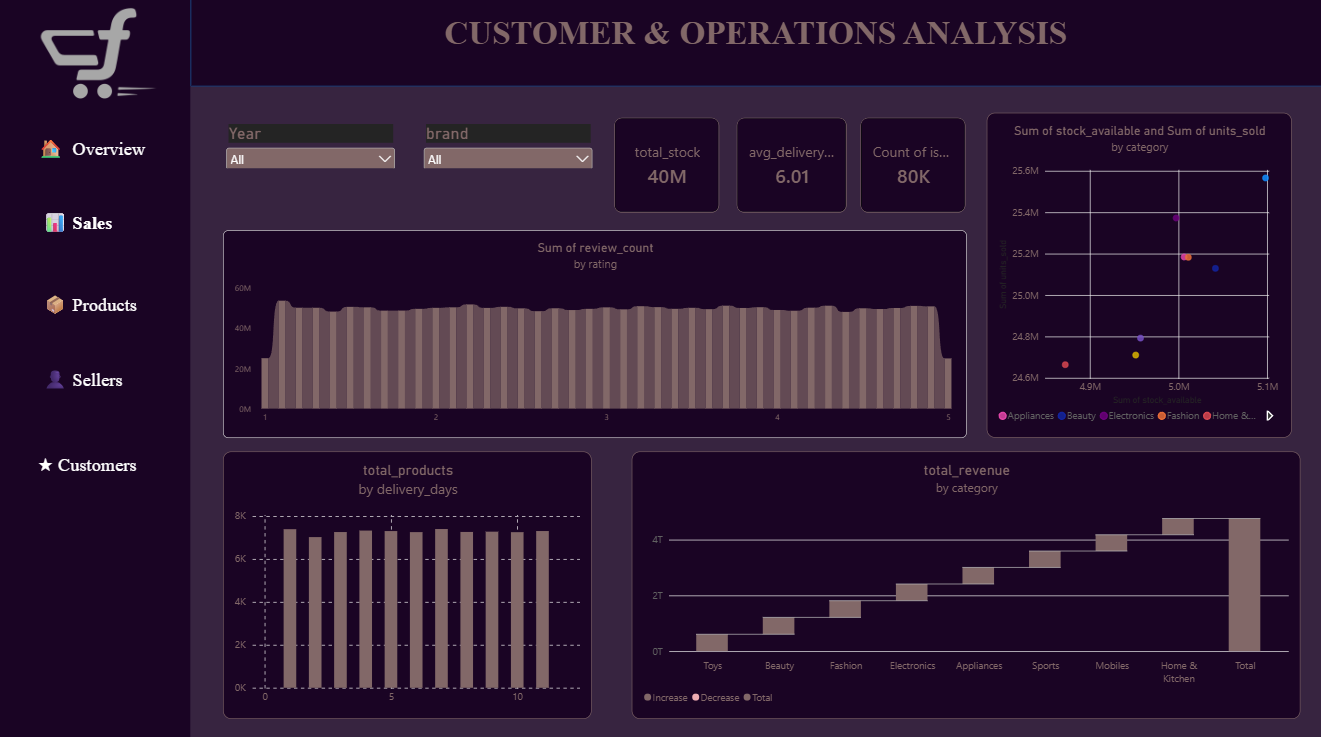

The page's visual inventory and layout, read from the dashboard file:
{"tool":"powerbi","page":{"name":"Customer & Operations Analysis","canvas":[1920,1080],"ordinal":4},"visuals":[{"type":"waterfallChart","fields":{"Category":["flipkard.category"],"Y":["calculation_table.total_revenue"]},"box":[917.5,662.3,968.2,387.3],"z":0},{"type":"clusteredColumnChart","fields":{"Category":["flipkard.delivery_days"],"Y":["calculation_tbl.total_products"]},"box":[325.7,662.3,533.8,387.3],"z":1000},{"type":"scatterChart","fields":{"X":["Sum(flipkard.stock_available)"],"Y":["Sum(flipkard.units_sold)"],"Series":["flipkard.category"]},"box":[1431.4,171.9,441.6,470.5],"z":2000},{"type":"shape","box":[278.7,0,1641.4,133.9],"z":3000},{"type":"shape","box":[0,0,278.7,1080.4],"z":3001},{"type":"textbox","box":[57.9,204.5,157.4,47.1],"z":3002},{"type":"textbox","box":[57.9,311.3,157.4,59.7],"z":3003},{"type":"textbox","box":[57.9,430.7,157.4,59.7],"z":3004},{"type":"textbox","box":[57.9,539.3,157.4,59.7],"z":3005},{"type":"textbox","box":[57.9,662.3,157.4,56.1],"z":3006},{"type":"textbox","box":[646,29,908.4,83.2],"z":3007},{"type":"cardVisual","fields":{"Data":["calculation_tbl.avg_deliverydays"]},"box":[1069.9,178.4,159.3,137.5],"z":3008},{"type":"cardVisual","fields":{"Data":["calculation_tbl.total_stock"]},"box":[892.5,178.4,152,137.5],"z":3009},{"type":"cardVisual","fields":{"Data":["CountNonNull(flipkard.is_returnable)"]},"box":[1249,178.4,152,137.5],"z":3010},{"type":"ribbonChart","fields":{"Category":["flipkard.rating"],"Y":["Sum(flipkard.review_count)"]},"box":[325.7,342,1076.7,300.4],"z":3011},{"type":"slicer","fields":{"Values":["DateTable.Date.Variation.Date Hierarchy.Year"]},"box":[325.7,188.2,254,64],"z":3012},{"type":"slicer","fields":{"Values":["flipkard.brand"]},"box":[611.7,188.2,254,64],"z":3013},{"type":"actionButton","box":[16.3,430.7,247.9,38],"z":3014},{"type":"actionButton","box":[27.1,311.3,247.9,38],"z":3015},{"type":"actionButton","box":[27.1,539.3,247.9,38],"z":3016},{"type":"actionButton","box":[30.8,204.5,231.6,47.1],"z":3017},{"type":"actionButton","box":[14.5,671.4,247.9,38],"z":3018},{"type":"image","box":[30.8,0,231.6,171.9],"z":3020}]}

Visuals, with their boxes on the page's 1920x1080 design canvas (x1, y1, x2, y2). These are canvas units, not pixel positions in the 1321x737 screenshot, which may show the page scaled, cropped or inside an application window:
waterfallChart - flipkard.category x calculation_table.total_revenue: l=918, t=662, r=1886, b=1050
clusteredColumnChart - flipkard.delivery_days x calculation_tbl.total_products: l=326, t=662, r=860, b=1050
scatterChart - Sum(flipkard.stock_available) x Sum(flipkard.units_sold): l=1431, t=172, r=1873, b=642
shape: l=279, t=0, r=1920, b=134
shape: l=0, t=0, r=279, b=1080
textbox: l=58, t=204, r=215, b=252
textbox: l=58, t=311, r=215, b=371
textbox: l=58, t=431, r=215, b=490
textbox: l=58, t=539, r=215, b=599
textbox: l=58, t=662, r=215, b=718
textbox: l=646, t=29, r=1554, b=112
cardVisual - calculation_tbl.avg_deliverydays: l=1070, t=178, r=1229, b=316
cardVisual - calculation_tbl.total_stock: l=892, t=178, r=1044, b=316
cardVisual - CountNonNull(flipkard.is_returnable): l=1249, t=178, r=1401, b=316
ribbonChart - flipkard.rating x Sum(flipkard.review_count): l=326, t=342, r=1402, b=642
slicer - DateTable.Date.Variation.Date Hierarchy.Year: l=326, t=188, r=580, b=252
slicer - flipkard.brand: l=612, t=188, r=866, b=252
actionButton: l=16, t=431, r=264, b=469
actionButton: l=27, t=311, r=275, b=349
actionButton: l=27, t=539, r=275, b=577
actionButton: l=31, t=204, r=262, b=252
actionButton: l=14, t=671, r=262, b=709
image: l=31, t=0, r=262, b=172
